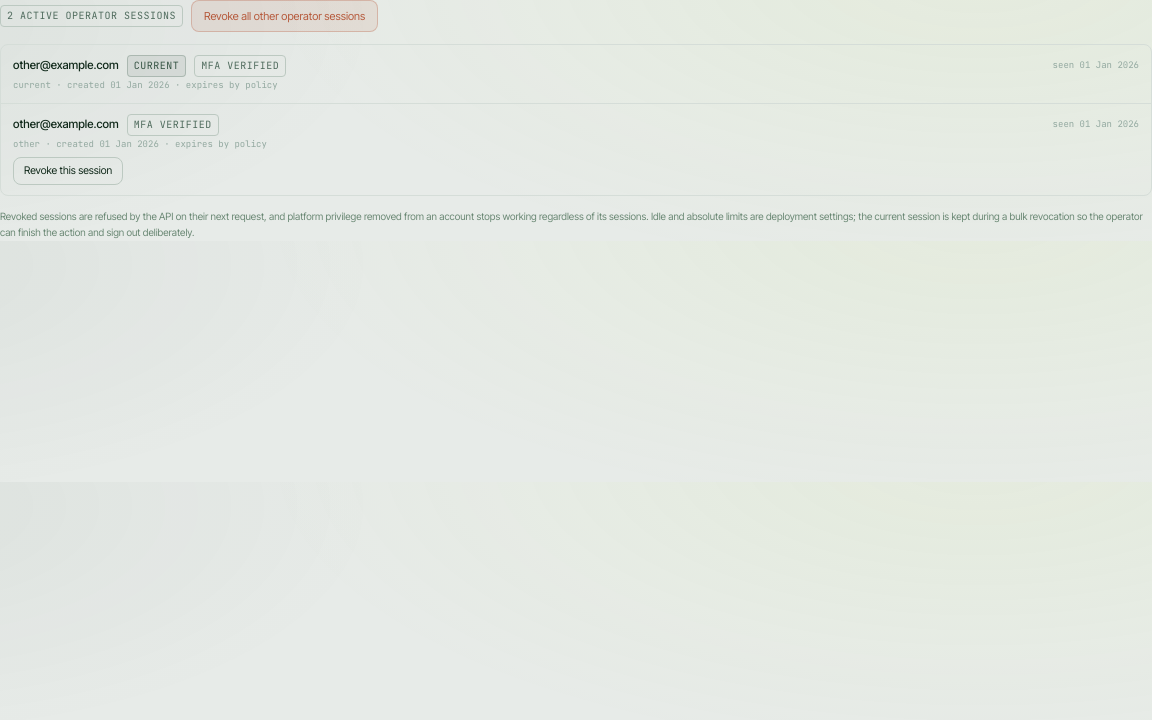
operator sessions › revokes a selected session but not the current one
Click the button "Revoke this session". click: (68, 171)
box: [13,157,123,185]
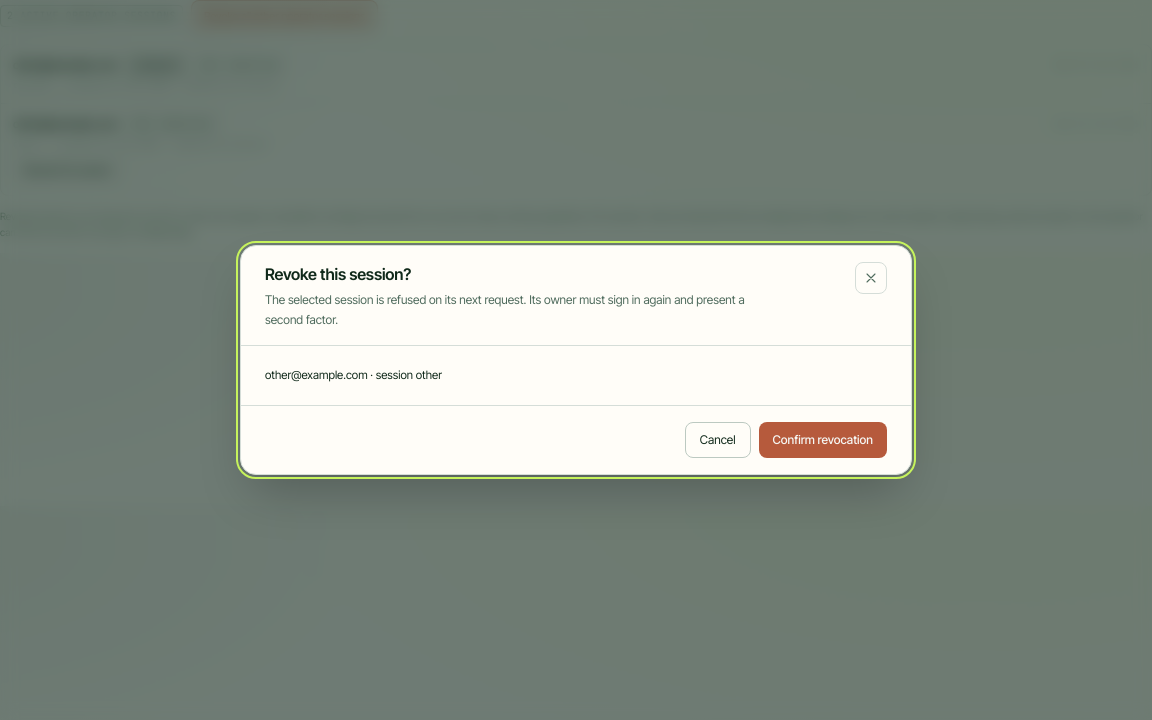
Click the button "Confirm revocation". click: (823, 440)
box: [758,422,887,458]
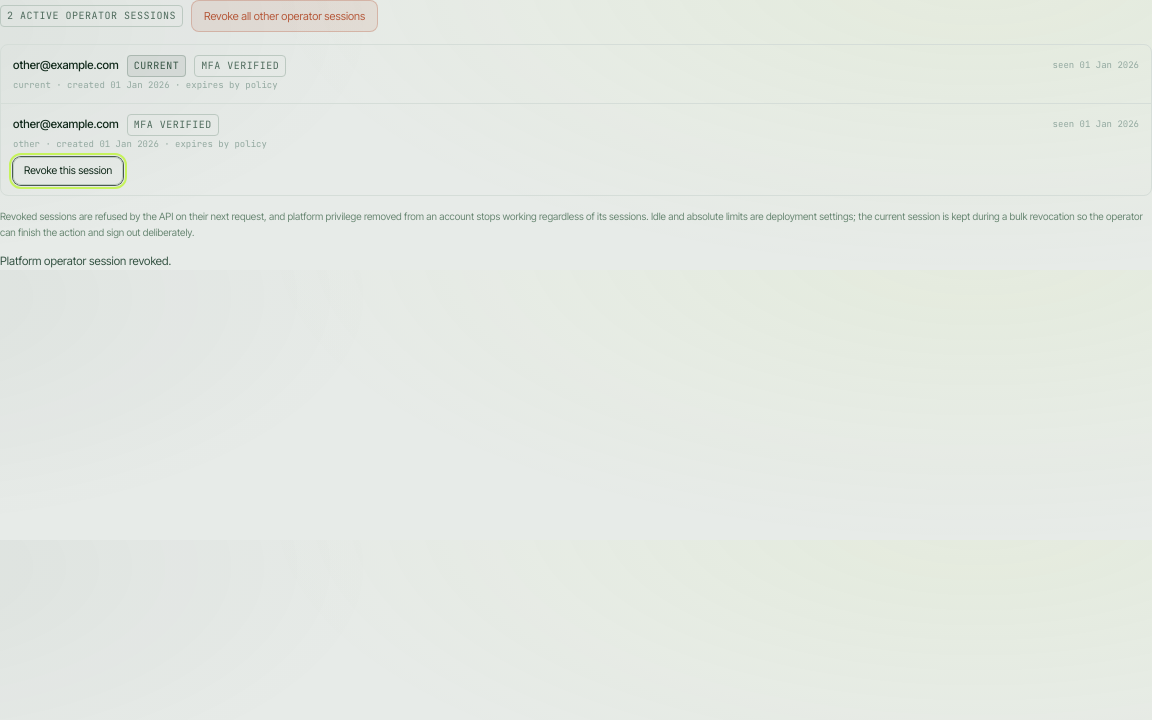
Check: the message shows "revoked", box [0,254,171,268]
